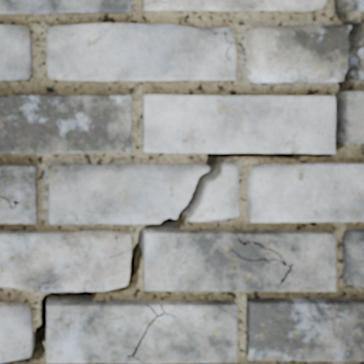brick: (47, 301, 236, 362), (144, 230, 335, 290), (143, 95, 334, 151), (47, 24, 235, 80), (0, 230, 130, 290), (0, 95, 130, 152), (246, 298, 363, 360), (248, 163, 363, 221), (0, 165, 36, 222), (143, 0, 326, 11), (0, 303, 32, 360), (0, 25, 31, 79), (0, 0, 130, 12), (342, 230, 363, 285), (342, 91, 363, 143), (343, 0, 363, 10), (143, 0, 155, 3)
broken_brick: (48, 163, 207, 224), (245, 24, 349, 83), (188, 162, 239, 221), (356, 33, 363, 80)
crack: (0, 0, 363, 363), (127, 303, 177, 363), (211, 31, 235, 62), (0, 194, 22, 210), (143, 0, 166, 6)
